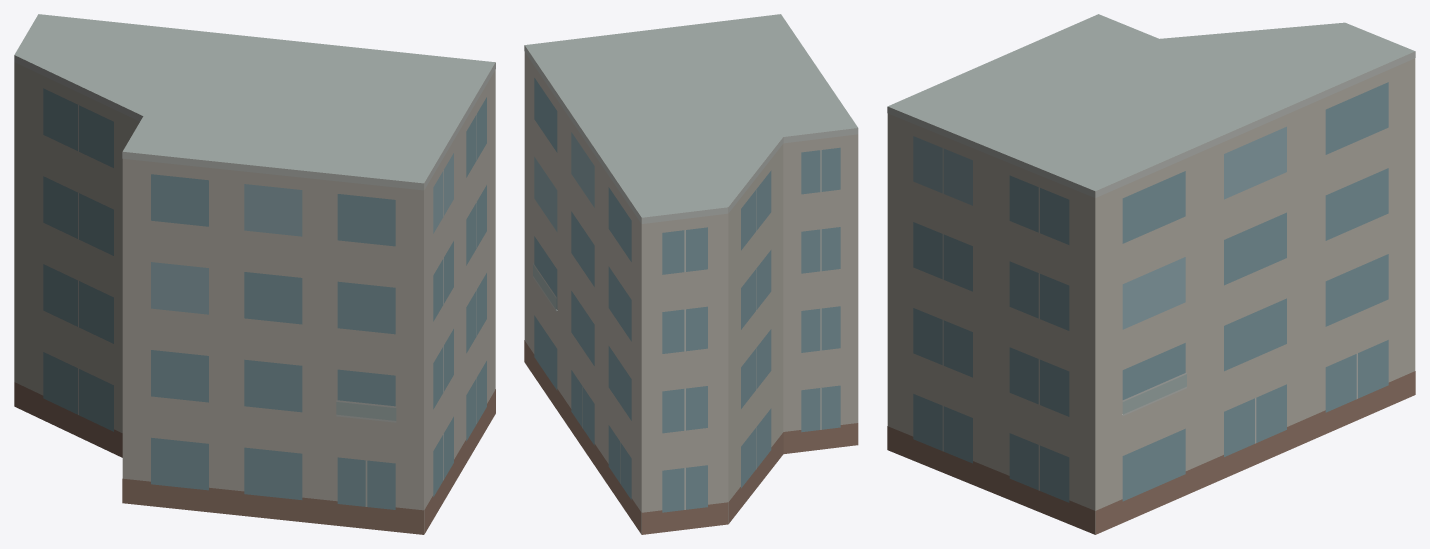
Rendered from residential-7b6302a5-8e20-4fc6-b2fd-02ad82c4a0af.glb.
The picture shows the model from 3 angles, left to right: view 1: azimuth 30°, elevation 25°; view 2: azimuth 150°, elevation 25°; view 3: azimuth 270°, elevation 25°; orthographic projection. The views are drawn at different scales.
Visible parts, largest first — view 1: residential-7b6302a5-8e20-4fc6-b2fd-02ad82c4a0af.tmp; view 2: residential-7b6302a5-8e20-4fc6-b2fd-02ad82c4a0af.tmp; view 3: residential-7b6302a5-8e20-4fc6-b2fd-02ad82c4a0af.tmp.
Boxes of the visible parts, bbox=[...] form: residential-7b6302a5-8e20-4fc6-b2fd-02ad82c4a0af.tmp: bbox=[14, 14, 495, 534]; residential-7b6302a5-8e20-4fc6-b2fd-02ad82c4a0af.tmp: bbox=[524, 14, 858, 534]; residential-7b6302a5-8e20-4fc6-b2fd-02ad82c4a0af.tmp: bbox=[887, 14, 1415, 534].
Size of the model in its own units: 13.51 by 12.2 by 17.
